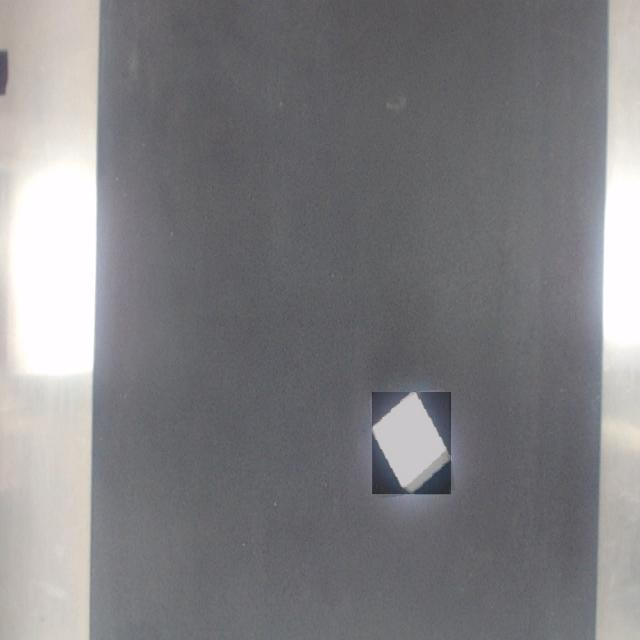Blanco: (372, 392, 451, 494)
